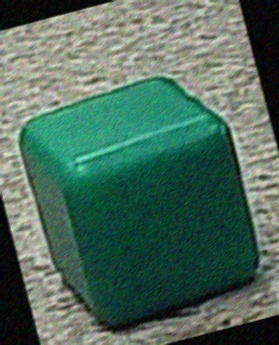green_cube: (18, 71, 267, 333)
